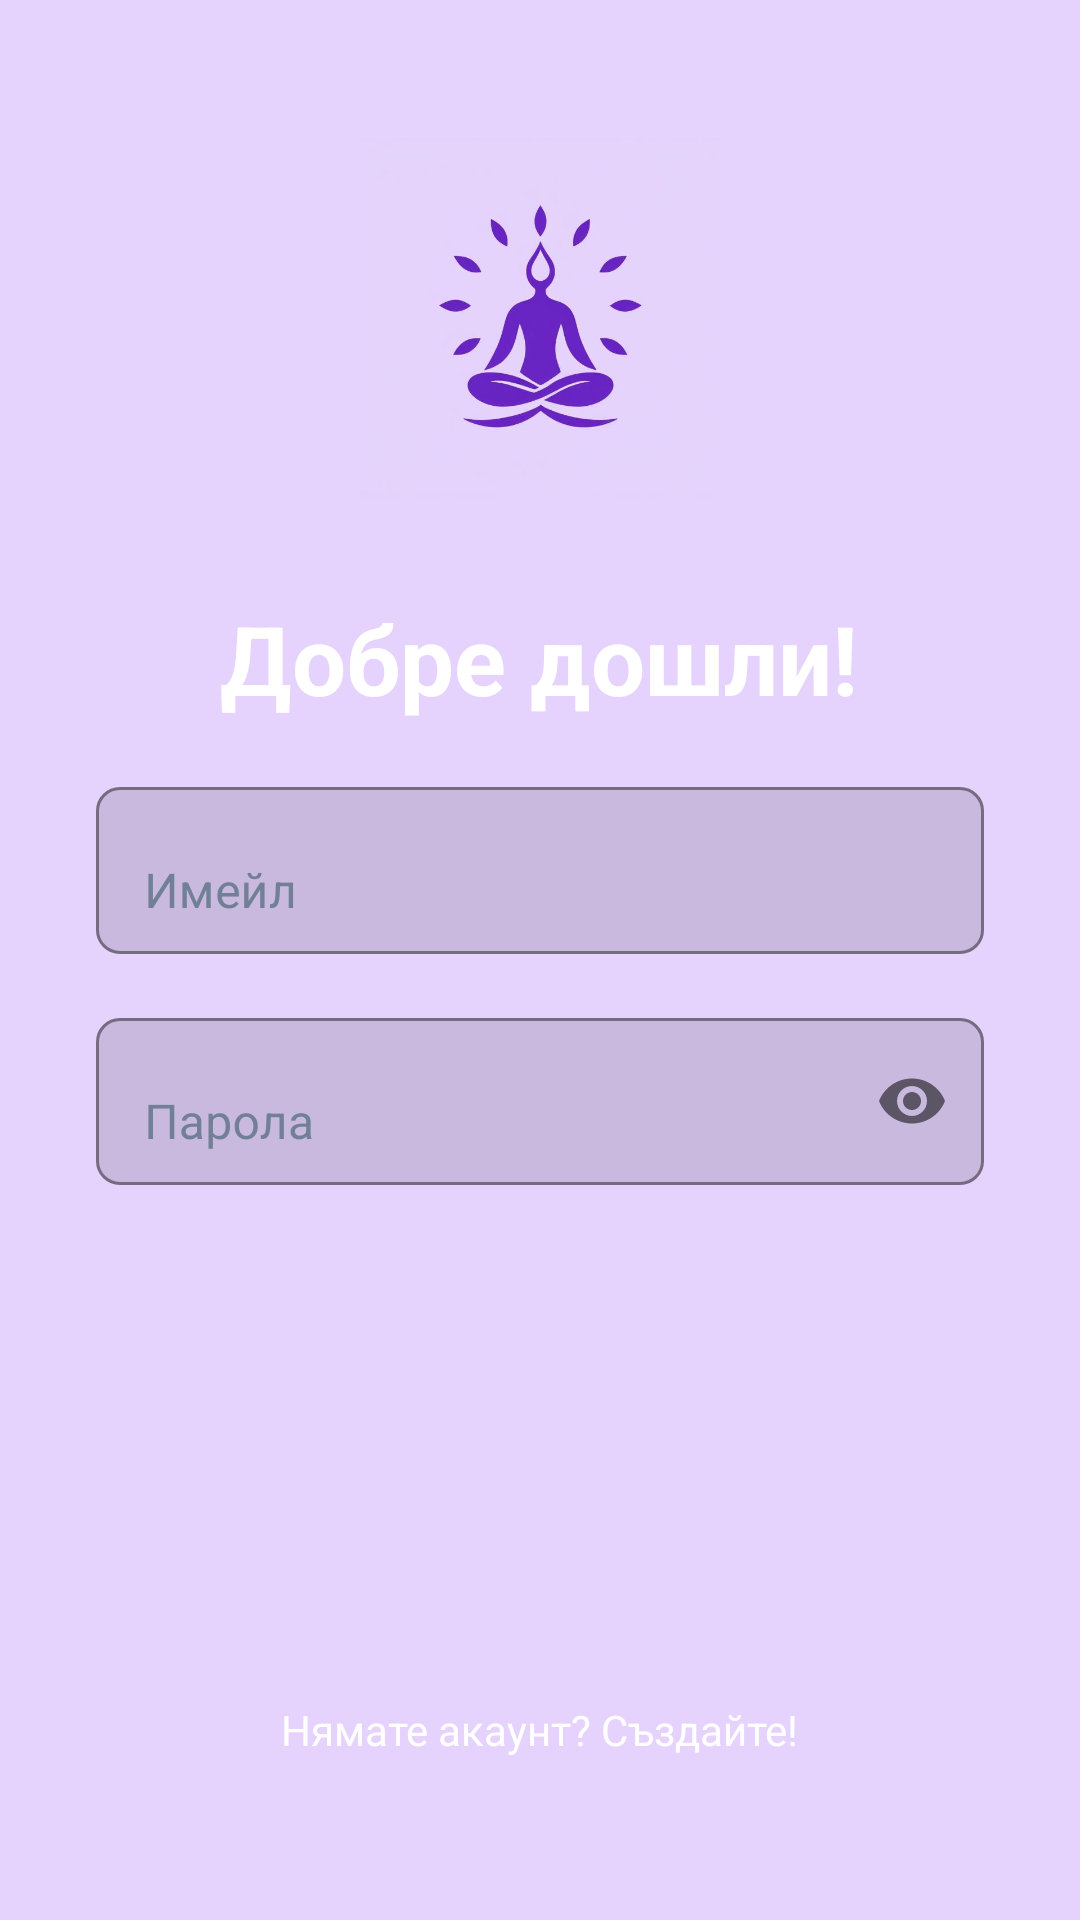

Icons on this 1080px x 1920px Android screen, each with its box as box=[x1, y1, x2, y2]:
Лого на приложението: box=[439, 205, 642, 428]
